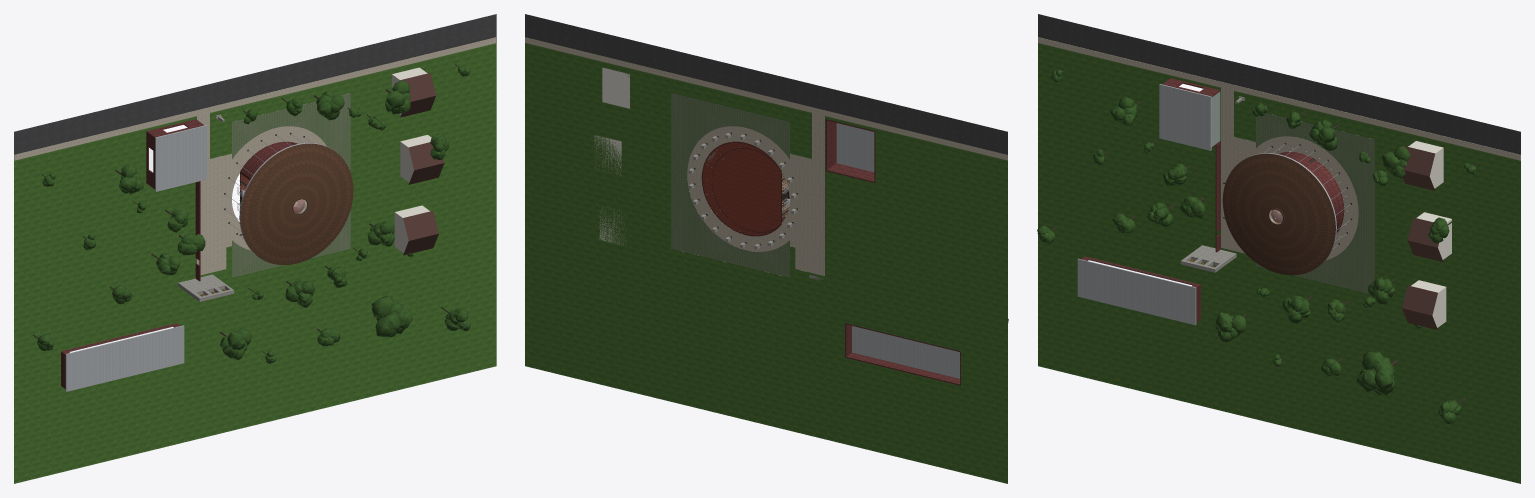
The model's file is St_Johann_von_Capistran_Muenchen.obj.
3 renders of one model, left to right at view 1: azimuth 30°, elevation 25°; view 2: azimuth 150°, elevation 25°; view 3: azimuth 330°, elevation 25°, orthographic.
Visible parts, largest first — view 1: Lawn, Gotthelfstrasse, Roof_Copper_Vault, Paving_Circuitus_and_Forecourt, Parsonage_Pfarrhaus, Neighbour_Houses_Context, Grass_Pavers, Parish_Hall_Pfarrsaal, Sidewalk, Tree_23, Bell_Wall_Glockenwand, Tree_20 (+6 smaller); view 2: Lawn, Gotthelfstrasse, Paving_Circuitus_and_Forecourt, Grass_Pavers, Floor_Clinker_Warm_Red, Parsonage_Pfarrhaus, Sidewalk, Parish_Hall_Pfarrsaal, Neighbour_Houses_Context, Masonry_Double_Shell__outer_32_m___inner_28_m_; view 3: Lawn, Gotthelfstrasse, Roof_Copper_Vault, Grass_Pavers, Parsonage_Pfarrhaus, Neighbour_Houses_Context, Paving_Circuitus_and_Forecourt, Parish_Hall_Pfarrsaal, Sidewalk, Tree_23, Masonry_Double_Shell__outer_32_m___inner_28_m_, Bell_Wall_Glockenwand (+7 smaller).
Boxes of the visible parts, x1,y1,x2,y2 form: Lawn: [14, 43, 496, 483]; Gotthelfstrasse: [14, 14, 496, 154]; Roof_Copper_Vault: [240, 143, 353, 264]; Paving_Circuitus_and_Forecourt: [197, 113, 326, 275]; Parsonage_Pfarrhaus: [61, 323, 184, 391]; Neighbour_Houses_Context: [392, 67, 444, 255]; Grass_Pavers: [232, 93, 350, 277]; Parish_Hall_Pfarrsaal: [146, 119, 207, 191]; Sidewalk: [14, 37, 496, 160]; Tree_23: [371, 295, 412, 337]; Bell_Wall_Glockenwand: [178, 274, 234, 301]; Tree_20: [220, 328, 251, 359]; Lawn: [525, 43, 1007, 483]; Gotthelfstrasse: [525, 14, 1007, 154]; Paving_Circuitus_and_Forecourt: [687, 113, 824, 275]; Grass_Pavers: [671, 93, 789, 277]; Floor_Clinker_Warm_Red: [703, 141, 781, 234]; Parsonage_Pfarrhaus: [845, 323, 960, 385]; Sidewalk: [525, 37, 1007, 160]; Parish_Hall_Pfarrsaal: [825, 119, 875, 182]; Neighbour_Houses_Context: [594, 67, 629, 245]; Masonry_Double_Shell__outer_32_m___inner_28_m_: [701, 141, 785, 236]; Lawn: [1038, 43, 1520, 483]; Gotthelfstrasse: [1038, 14, 1520, 154]; Roof_Copper_Vault: [1222, 153, 1335, 275]; Grass_Pavers: [1256, 113, 1374, 293]; Parsonage_Pfarrhaus: [1077, 256, 1200, 325]; Neighbour_Houses_Context: [1402, 141, 1451, 329]; Paving_Circuitus_and_Forecourt: [1221, 87, 1358, 260]; Parish_Hall_Pfarrsaal: [1159, 78, 1220, 150]; Sidewalk: [1038, 37, 1520, 160]; Tree_23: [1356, 351, 1397, 395]; Masonry_Double_Shell__outer_32_m___inner_28_m_: [1278, 152, 1344, 233]; Bell_Wall_Glockenwand: [1180, 245, 1236, 272].
Size of the model in its own units: 175 by 122 by 19.26.
Materials: 43 (22 with a texture image).
